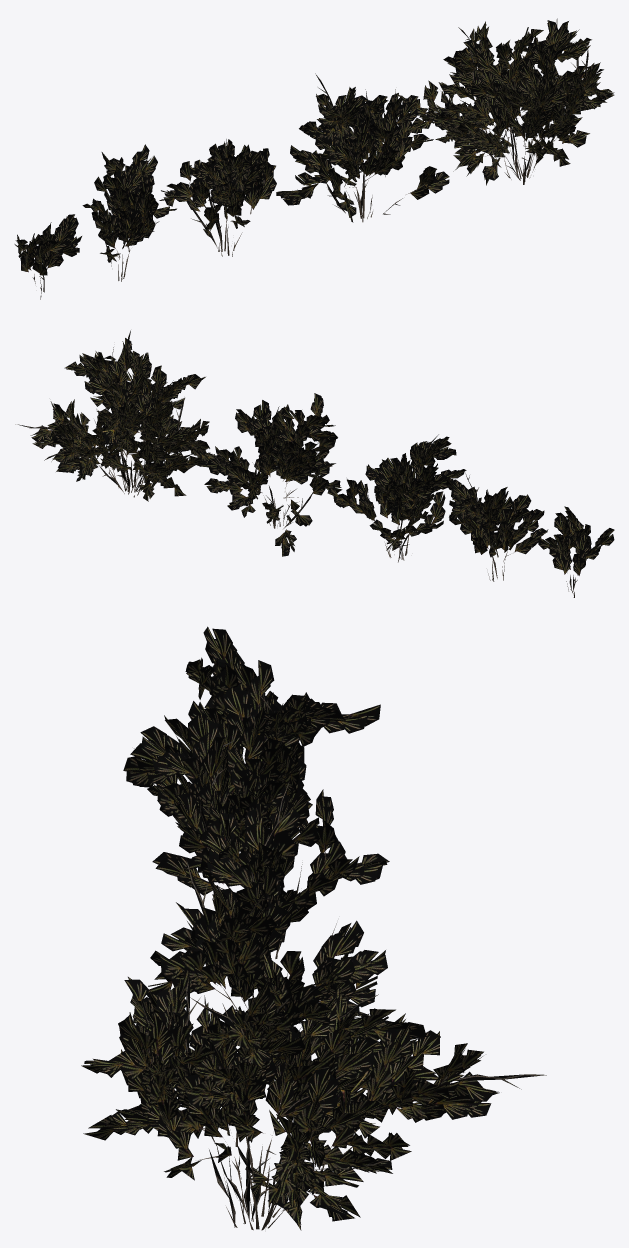
The model's file is wild_rooibos_bush.glb.
3 renders of one model, top to bottom at view 1: azimuth 30°, elevation 25°; view 2: azimuth 150°, elevation 25°; view 3: azimuth 270°, elevation 25°, orthographic. The views are drawn at different scales.
Visible parts, largest first — view 1: wild_rooibos_bush_a, wild_rooibos_bush_b, wild_rooibos_bush_c, wild_rooibos_bush_d, wild_rooibos_bush_e; view 2: wild_rooibos_bush_a, wild_rooibos_bush_b, wild_rooibos_bush_c, wild_rooibos_bush_d, wild_rooibos_bush_e; view 3: wild_rooibos_bush_a, wild_rooibos_bush_b, wild_rooibos_bush_c, wild_rooibos_bush_d, wild_rooibos_bush_e.
Part boxes in pixels (x1,y1,x2,y2): wild_rooibos_bush_a: [398, 18, 614, 185]; wild_rooibos_bush_b: [276, 73, 449, 222]; wild_rooibos_bush_c: [159, 139, 276, 256]; wild_rooibos_bush_d: [82, 144, 176, 281]; wild_rooibos_bush_e: [14, 214, 81, 299]; wild_rooibos_bush_a: [15, 330, 218, 501]; wild_rooibos_bush_b: [200, 393, 342, 556]; wild_rooibos_bush_c: [327, 434, 466, 562]; wild_rooibos_bush_d: [445, 473, 548, 581]; wild_rooibos_bush_e: [538, 506, 614, 597]; wild_rooibos_bush_a: [81, 953, 546, 1230]; wild_rooibos_bush_b: [132, 781, 387, 1039]; wild_rooibos_bush_c: [123, 710, 389, 958]; wild_rooibos_bush_d: [164, 660, 380, 803]; wild_rooibos_bush_e: [185, 626, 278, 747].
Bounding box in the file's own units: 2.27 × 0.533 × 0.8279.
Materials: 2 (2 with a texture image).
